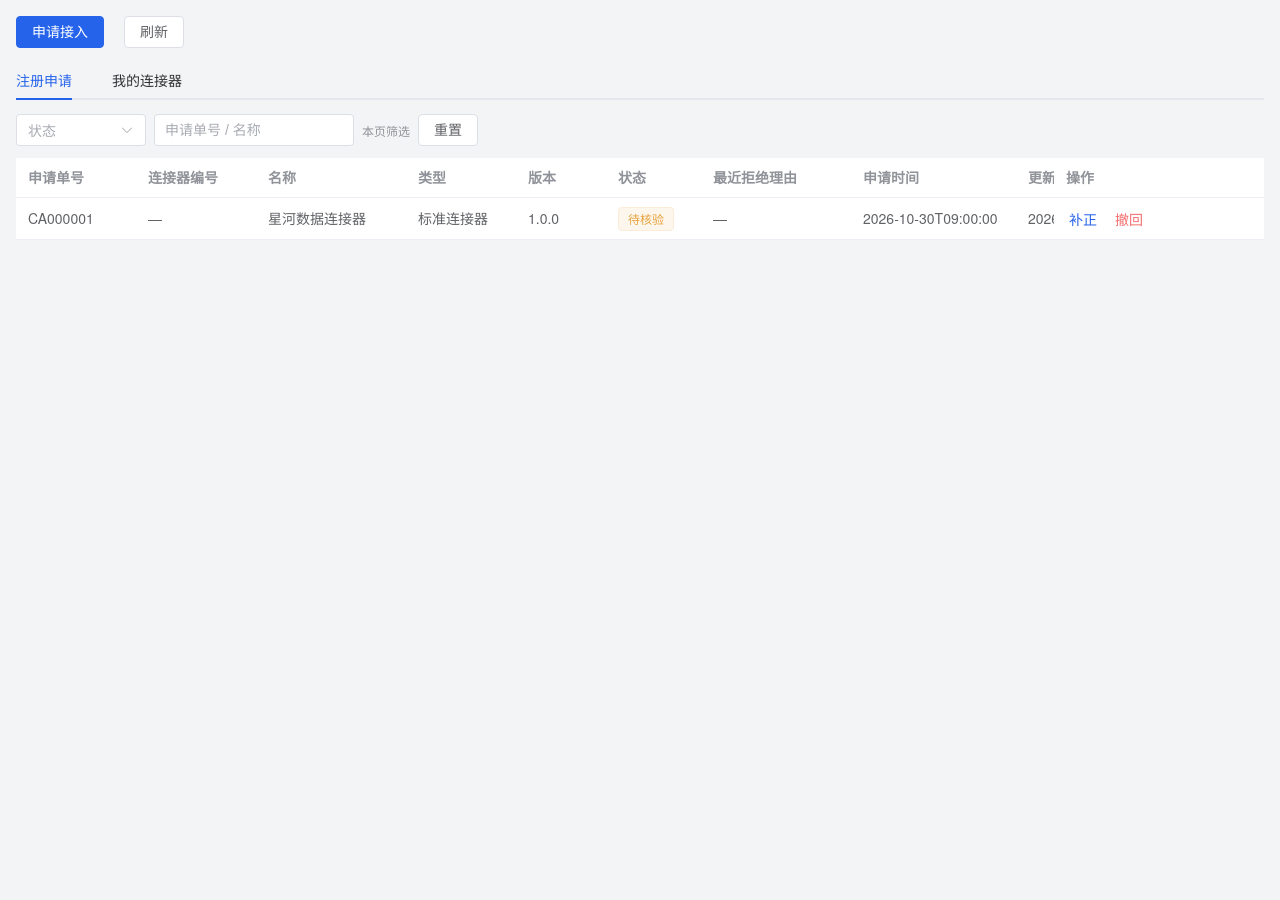
Tab1 注册申请（T4） › 同名重复被拒（1010C0002）：弹窗内原样展示服务端文案
Click the button "申请接入". click: (60,32)
box: [16,16,104,48]
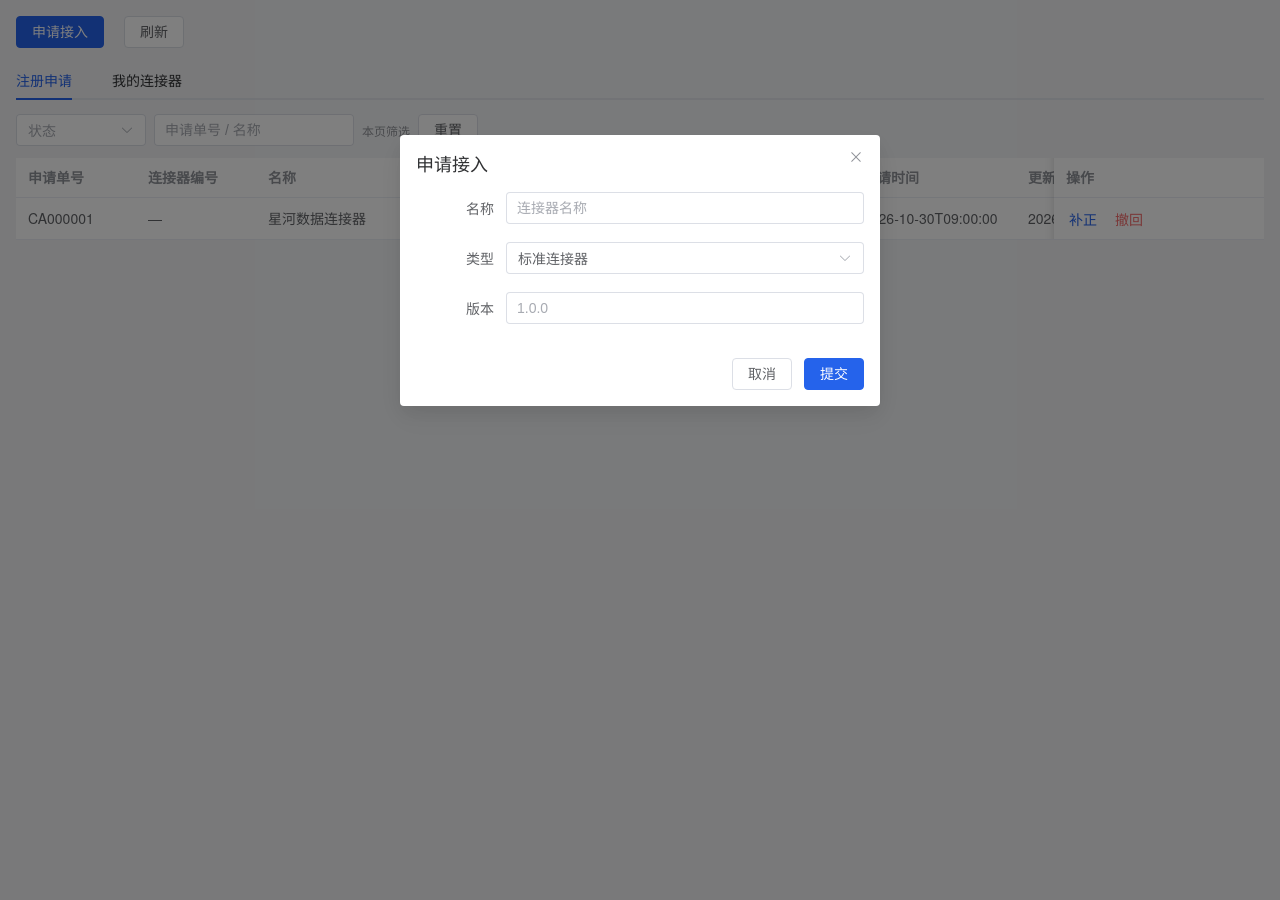
Click the button "提交". click: (834,374)
box: [804,358,864,390]
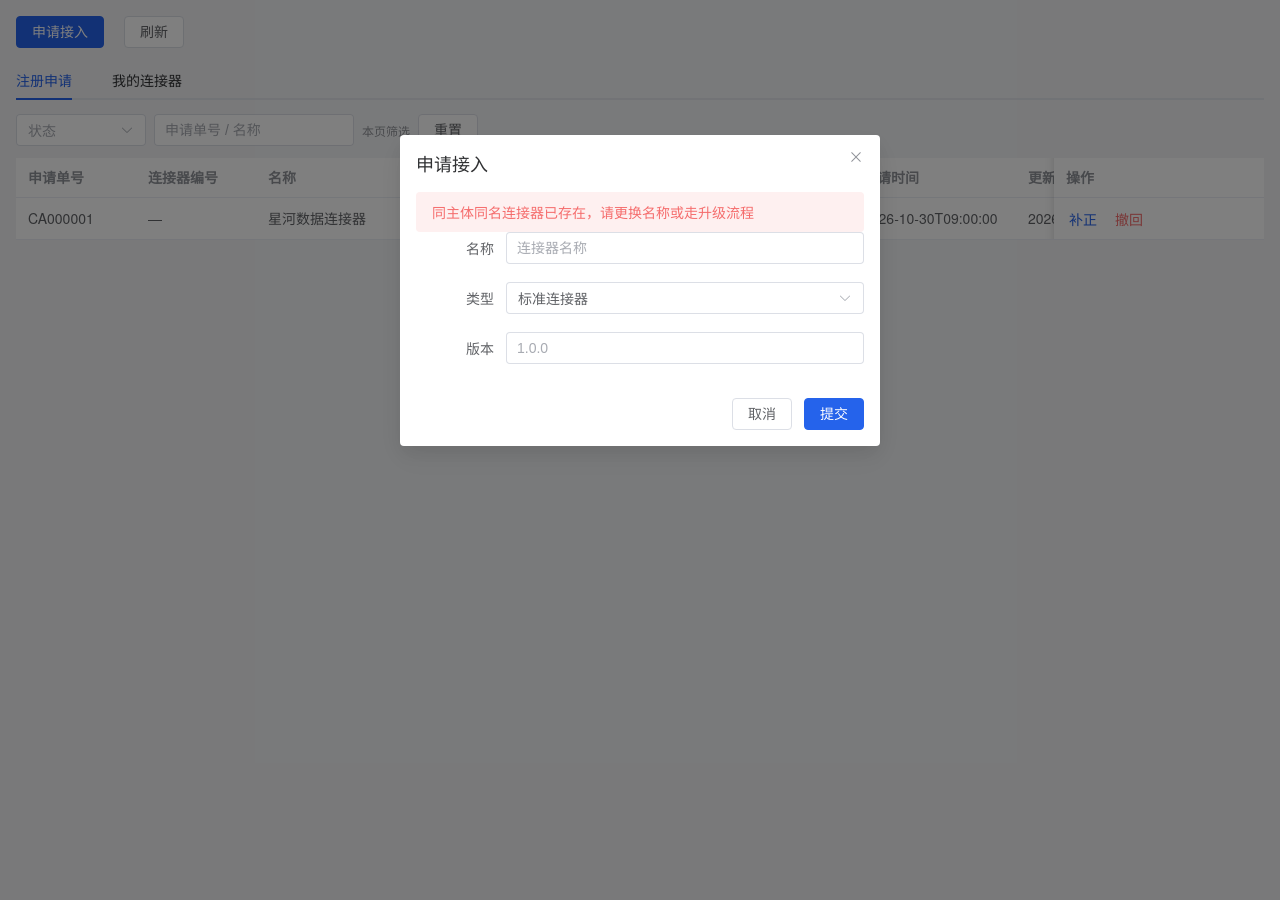
expect the text "同主体同名连接器已存在" is shown: met, box [432,202,754,222]
